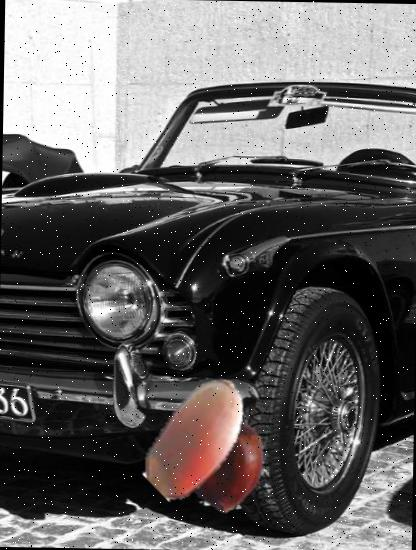Chestnut: (172, 415, 272, 516)
Hazelnut: (131, 370, 265, 504)
